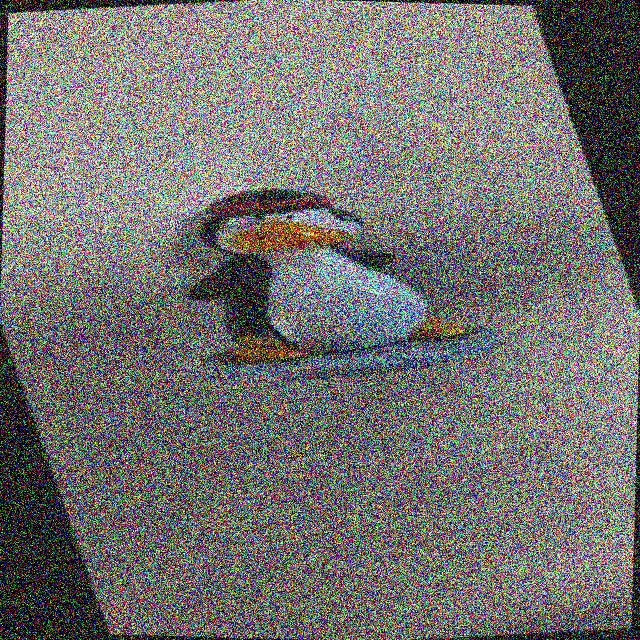Penguin: (124, 165, 527, 400)
